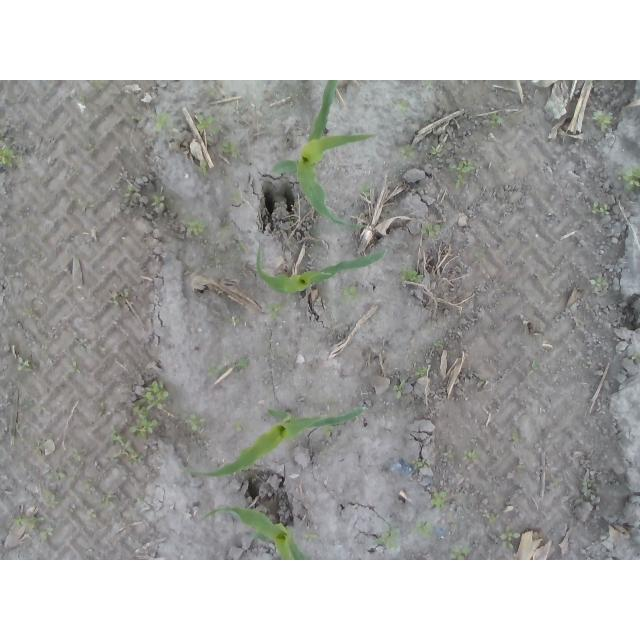Maize: (271, 81, 378, 232), (191, 405, 367, 479), (255, 243, 389, 297), (198, 508, 311, 561)
Weeds: (127, 381, 169, 442), (111, 423, 142, 462), (448, 159, 480, 185), (194, 112, 224, 136), (179, 217, 210, 239), (375, 527, 402, 551), (212, 139, 240, 160), (183, 413, 209, 434), (622, 164, 640, 193), (499, 526, 520, 550), (17, 399, 49, 414), (544, 96, 564, 120), (592, 111, 617, 130), (399, 265, 423, 284), (151, 111, 173, 131), (448, 544, 473, 561), (0, 143, 16, 169), (415, 518, 434, 539), (15, 514, 37, 531), (266, 302, 285, 321), (431, 489, 449, 509), (40, 487, 60, 505), (417, 224, 447, 236), (74, 194, 96, 210), (399, 143, 418, 161), (340, 288, 360, 305), (225, 357, 251, 370), (487, 111, 504, 130), (351, 183, 371, 199), (592, 200, 610, 217), (463, 448, 482, 464), (111, 289, 131, 303), (16, 356, 32, 373), (65, 359, 81, 375), (124, 184, 142, 198), (151, 192, 166, 208), (305, 527, 320, 543), (393, 383, 406, 401), (410, 457, 431, 468), (580, 478, 592, 497), (528, 359, 544, 373), (128, 114, 145, 127), (97, 495, 113, 508), (196, 160, 208, 177), (225, 314, 240, 327), (589, 277, 608, 287), (31, 440, 44, 454), (46, 472, 66, 481), (578, 360, 595, 370), (208, 367, 225, 377), (40, 528, 53, 541), (512, 432, 525, 445), (86, 508, 98, 522), (239, 111, 248, 129), (400, 99, 411, 113), (443, 449, 457, 460), (133, 497, 147, 508), (93, 80, 109, 89), (82, 478, 94, 490), (430, 144, 442, 156), (23, 307, 34, 319), (487, 512, 498, 524), (322, 427, 335, 437), (80, 337, 89, 351), (552, 475, 561, 489), (231, 190, 241, 202), (415, 368, 428, 377), (239, 242, 249, 253), (72, 450, 80, 463), (631, 350, 640, 361), (432, 337, 441, 348), (234, 420, 242, 432), (208, 87, 217, 97), (516, 464, 527, 472), (424, 80, 433, 89), (78, 95, 86, 105), (400, 168, 409, 175)
